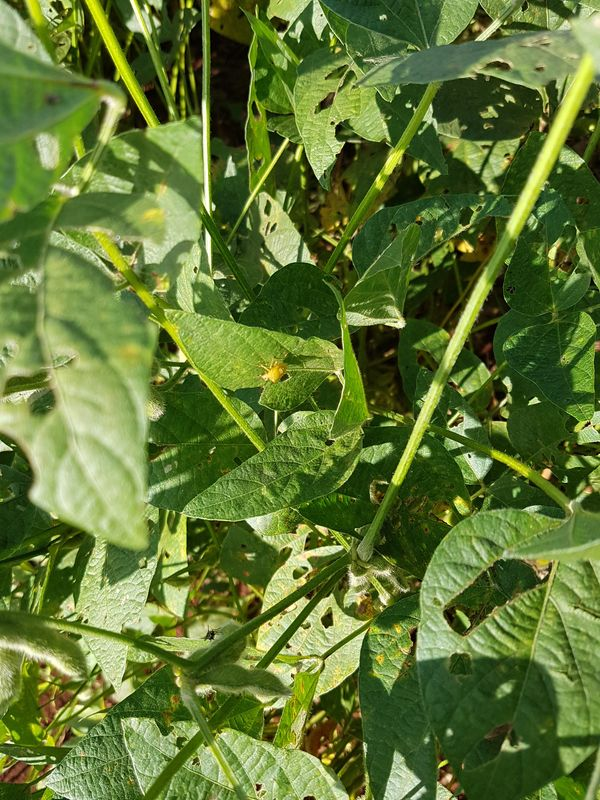Euschistus_heros_ninfa: (253, 352, 292, 389)
